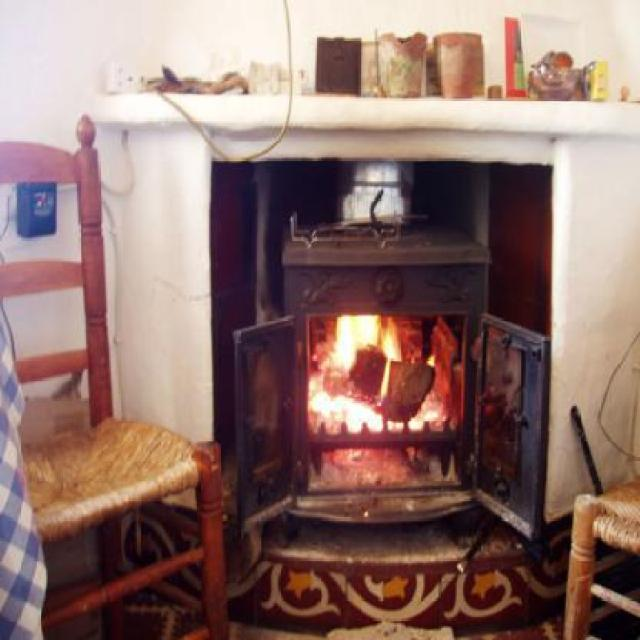Fire: (305, 380, 380, 435), (332, 316, 385, 344), (406, 403, 442, 432), (382, 328, 400, 360), (334, 343, 356, 369), (388, 418, 408, 431)
